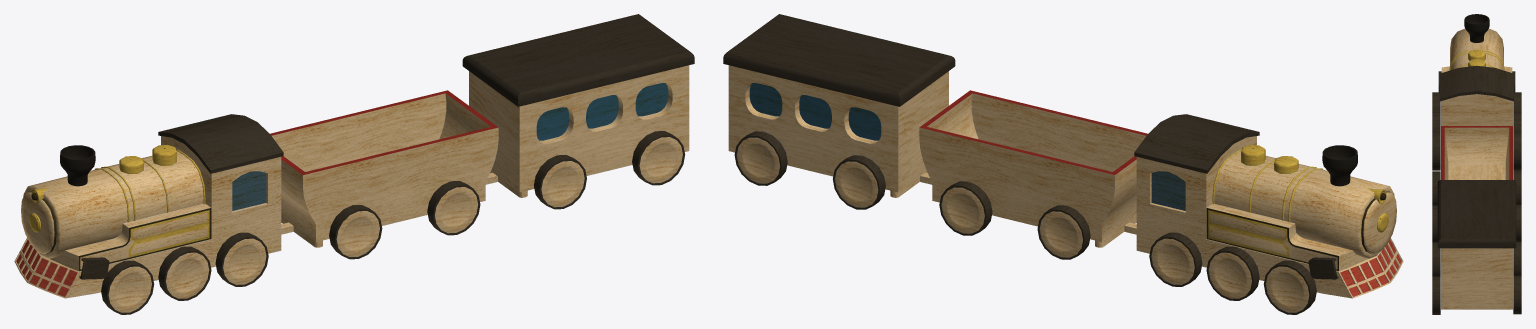
Rendered from Wooden train.fbx.
3 renders of one model, left to right at view 1: azimuth 30°, elevation 25°; view 2: azimuth 150°, elevation 25°; view 3: azimuth 270°, elevation 25°, orthographic. The views are drawn at different scales.
Visible parts, largest first — view 1: engine, passanger, carrier; view 2: engine, passanger, carrier; view 3: passanger, engine, carrier.
Boxes of the visible parts, bbox=[...] form: engine: bbox=[14, 114, 283, 314]; passanger: bbox=[462, 14, 694, 209]; carrier: bbox=[270, 90, 498, 259]; engine: bbox=[1134, 114, 1403, 314]; passanger: bbox=[723, 14, 955, 209]; carrier: bbox=[919, 90, 1147, 259]; passanger: bbox=[1432, 180, 1521, 314]; engine: bbox=[1432, 14, 1521, 170]; carrier: bbox=[1432, 126, 1521, 242].
Bounding box in the file's own units: 1421 × 306 × 242.
